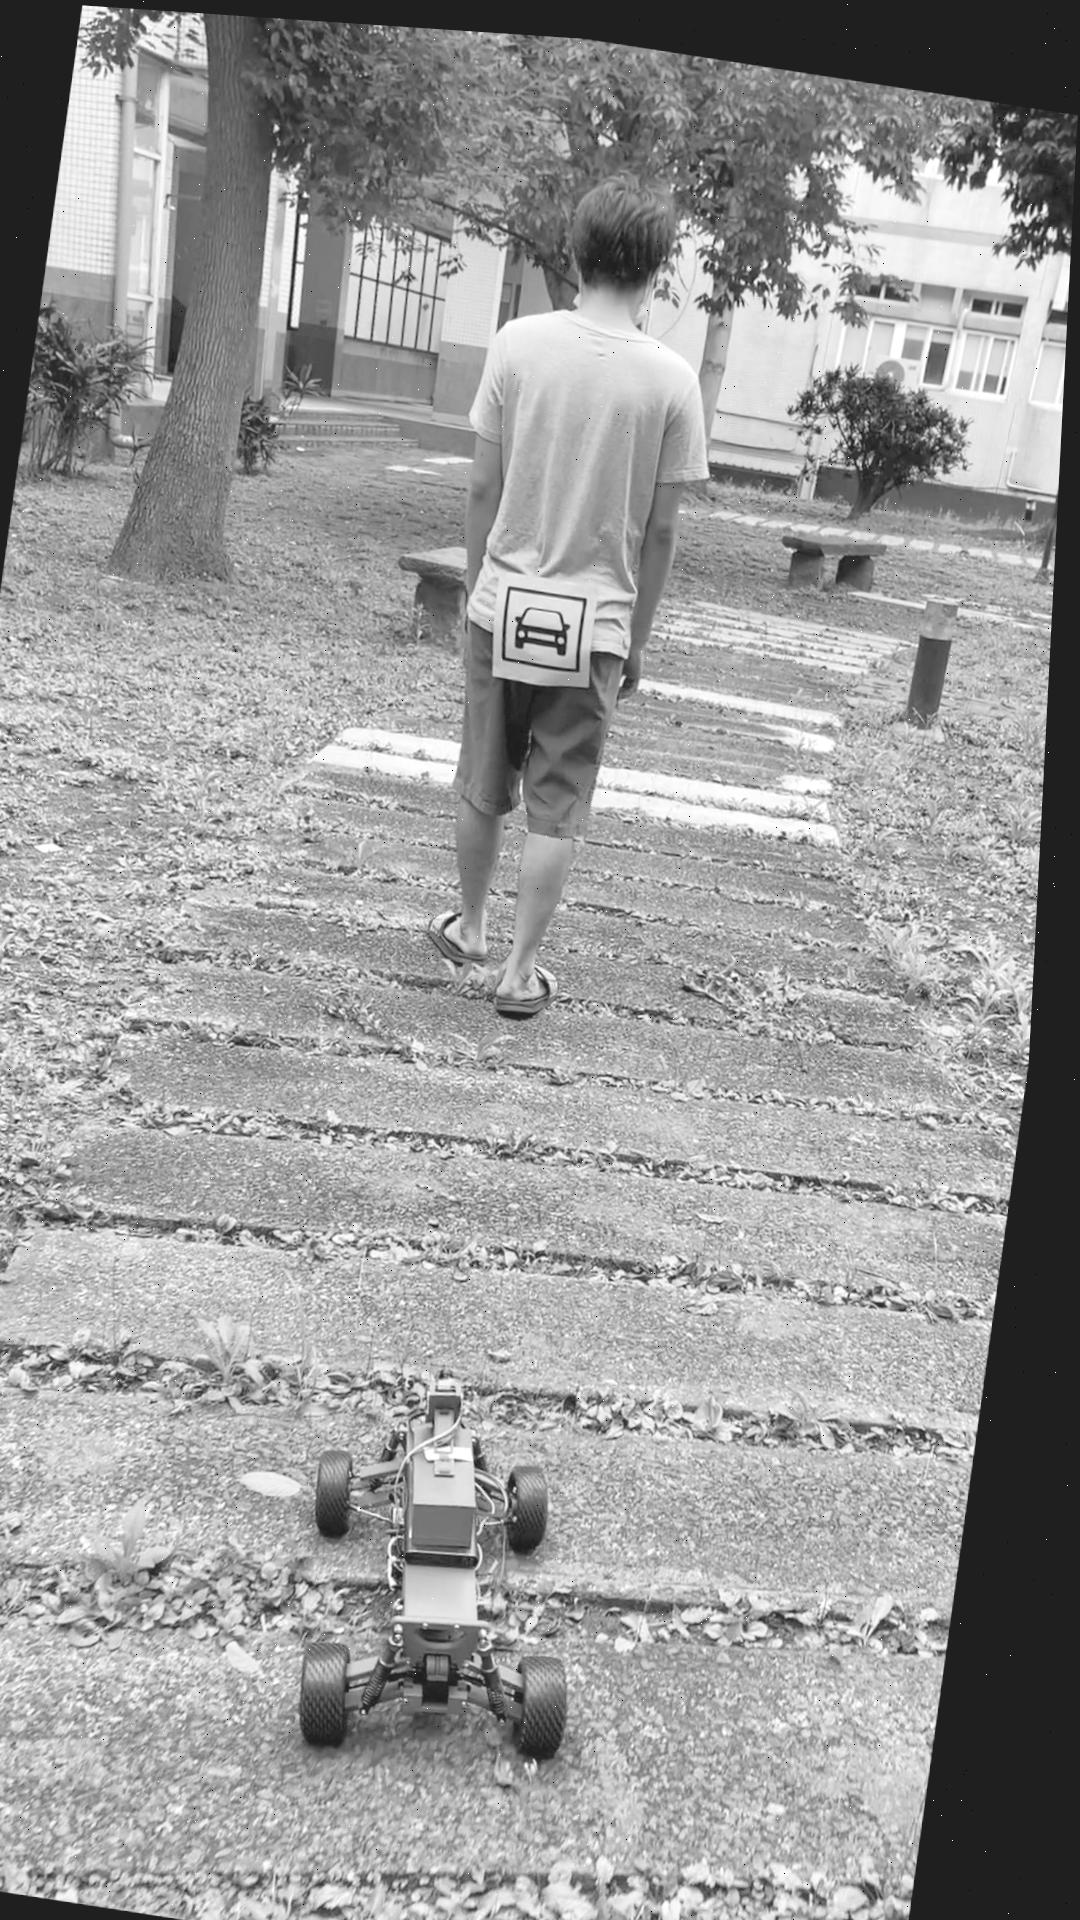car_img: (502, 576, 596, 666)
